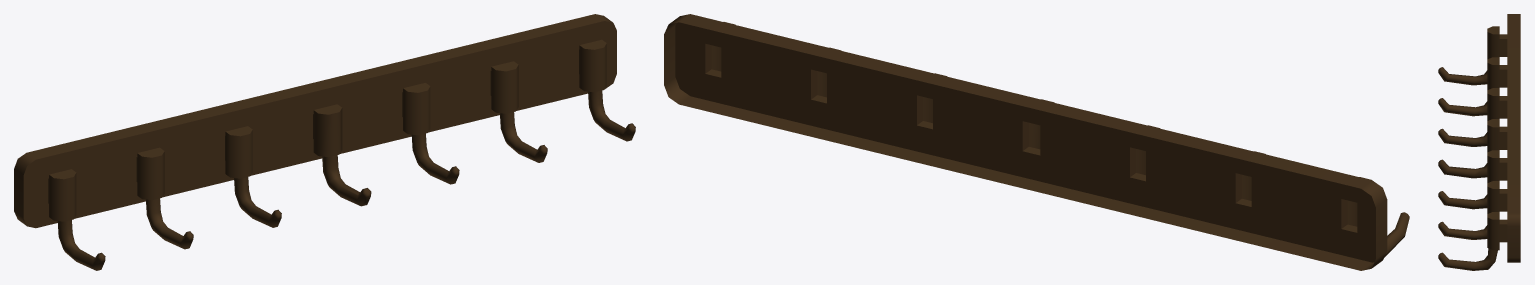
File: SM_Props_FarmHook_02.obj
The picture shows the model from 3 angles, left to right: view 1: azimuth 30°, elevation 25°; view 2: azimuth 150°, elevation 25°; view 3: azimuth 270°, elevation 25°; orthographic projection. The views are drawn at different scales.
Visible parts, largest first — view 1: SM_Props_FarmHook_02_Mat_SwatchOverlay_Farm_01_WoodB_Inst; view 2: SM_Props_FarmHook_02_Mat_SwatchOverlay_Farm_01_WoodB_Inst; view 3: SM_Props_FarmHook_02_Mat_SwatchOverlay_Farm_01_WoodB_Inst.
Part boxes in pixels (x1,y1,x2,y2): SM_Props_FarmHook_02_Mat_SwatchOverlay_Farm_01_WoodB_Inst: (14,14,635,270); SM_Props_FarmHook_02_Mat_SwatchOverlay_Farm_01_WoodB_Inst: (664,14,1409,270); SM_Props_FarmHook_02_Mat_SwatchOverlay_Farm_01_WoodB_Inst: (1438,14,1520,270).
Bounding box in the file's own units: 1.96 × 0.2798 × 0.329.
1 material, 1 textured.
